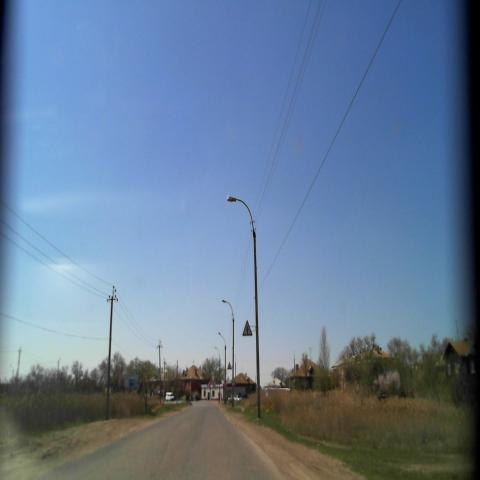2_3: (241, 319, 252, 337)
